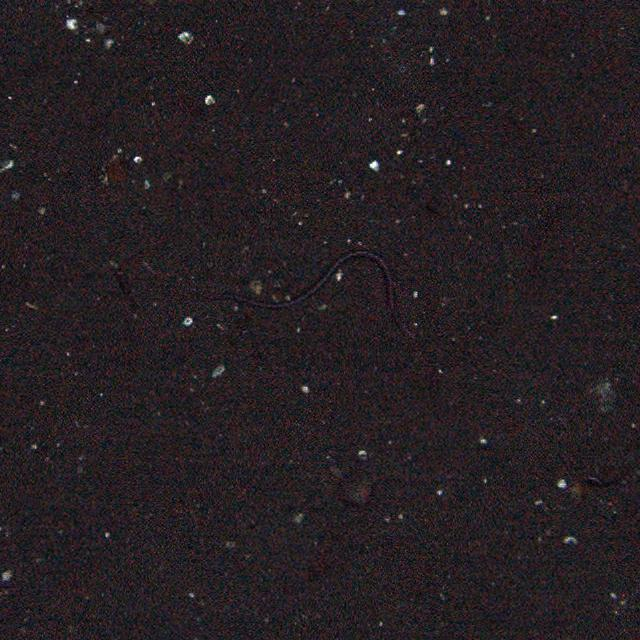eel: (216, 250, 421, 342)
